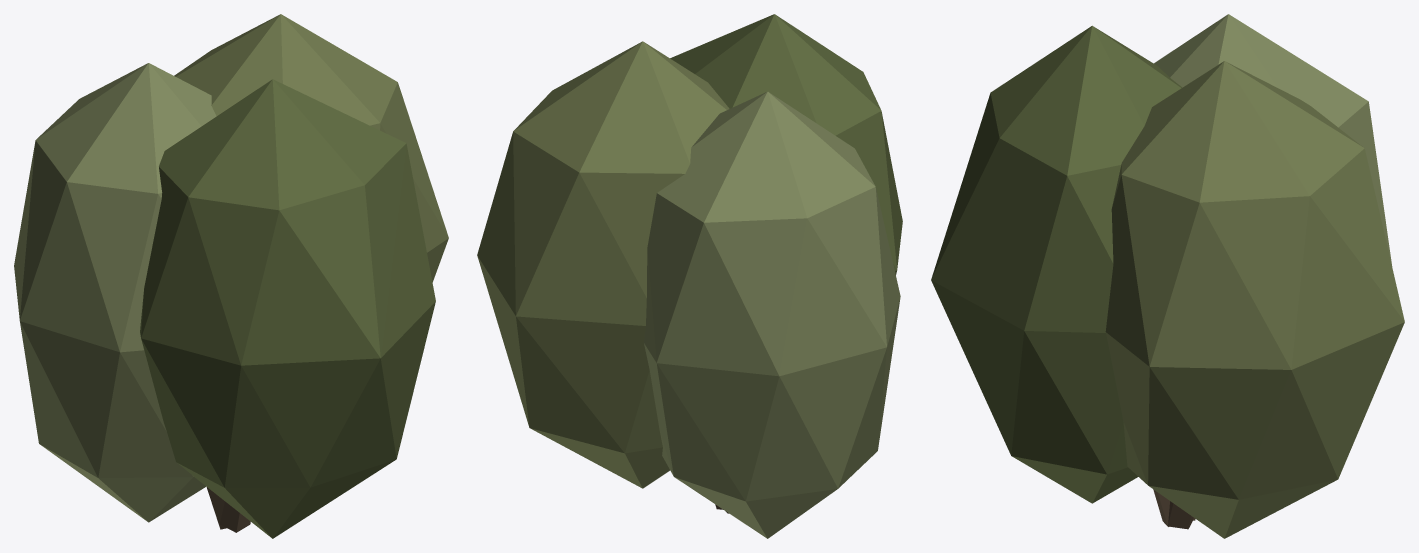
3 views of the same model, side by side, from view 1: azimuth 30°, elevation 25°; view 2: azimuth 150°, elevation 25°; view 3: azimuth 270°, elevation 25° (orthographic). The views are drawn at different scales.
Parts seen in each view (by area): view 1: bush-previous; view 2: bush-previous; view 3: bush-previous.
Part boxes in pixels (left/top/right/bottom): bush-previous: left=14, top=14, right=448, bottom=538; bush-previous: left=477, top=14, right=902, bottom=538; bush-previous: left=931, top=14, right=1404, bottom=538.
Bounding box in the file's own units: 5.47 × 6.35 × 5.47.
